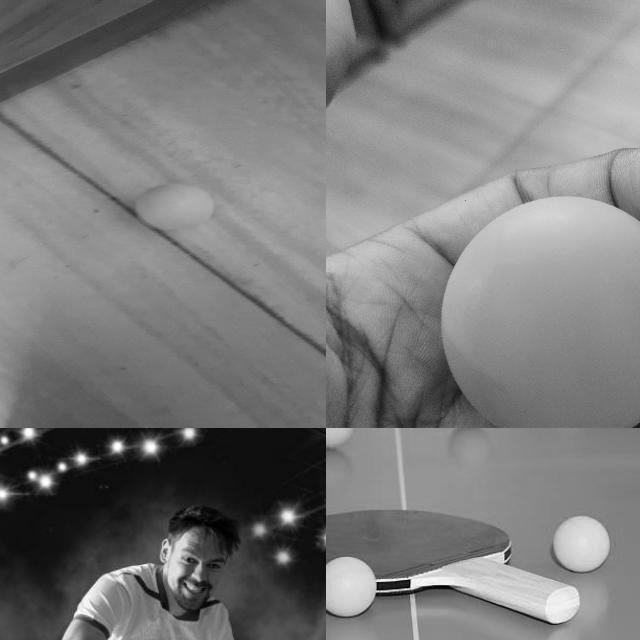ping-pong-ball: (442, 195, 639, 427), (134, 182, 215, 230), (554, 516, 608, 574), (326, 556, 375, 618), (326, 428, 351, 449)
